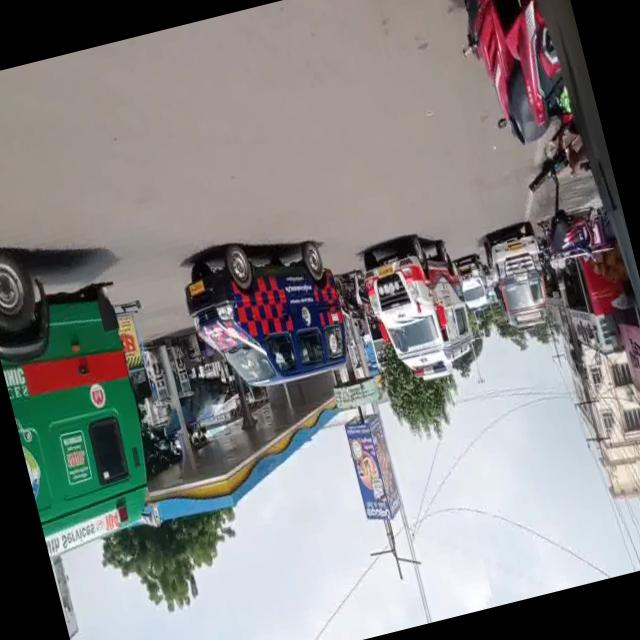ambulance: (0, 264, 152, 559), (178, 236, 358, 410), (354, 234, 479, 390), (486, 224, 560, 335)
